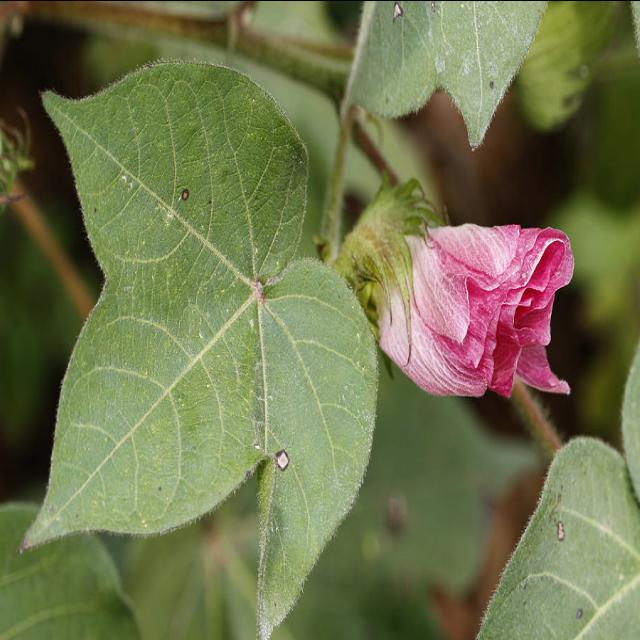Cotton Blossom: (322, 176, 572, 406)
